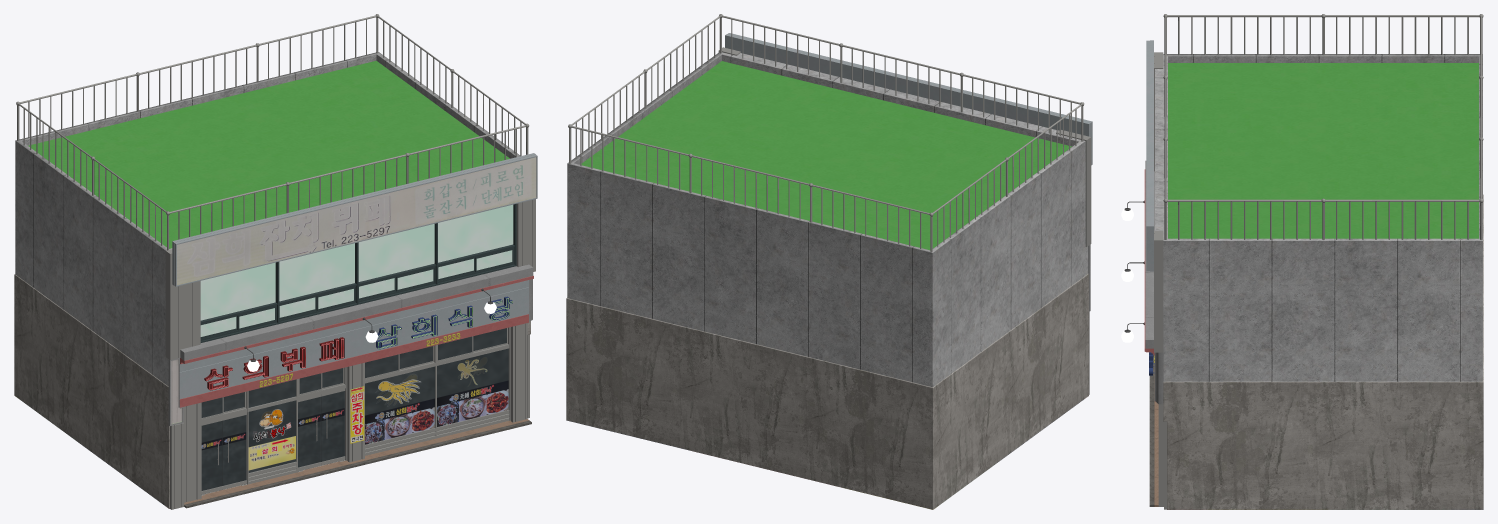
The model's file is samhui_restaurant.glb.
3 renders of one model, left to right at view 1: azimuth 30°, elevation 25°; view 2: azimuth 150°, elevation 25°; view 3: azimuth 270°, elevation 25°, orthographic. The views are drawn at different scales.
Visible parts, largest first — view 1: Trim_Wall_SamhuiRestaurant_TrimWall_0, Trim_Etc_SamhuiRestaurant_TrimEtc_0, 1F_Window_Trim_Etc_Glass, Trim_Floor_SamhuiRestaurant_TrimFloor_0, MainDoor_R, MainDoor_R002, MainDoor_L002, MainDoor_L; view 2: Trim_Wall_SamhuiRestaurant_TrimWall_0, Trim_Etc_SamhuiRestaurant_TrimEtc_0; view 3: Trim_Wall_SamhuiRestaurant_TrimWall_0, Trim_Etc_SamhuiRestaurant_TrimEtc_0, Trim_Floor_SamhuiRestaurant_TrimFloor_0.
Boxes of the visible parts, x1,y1,x2,y2 form: Trim_Wall_SamhuiRestaurant_TrimWall_0: (14,52,537,508); Trim_Etc_SamhuiRestaurant_TrimEtc_0: (16,14,536,509); 1F_Window_Trim_Etc_Glass: (201,328,508,472); Trim_Floor_SamhuiRestaurant_TrimFloor_0: (184,419,531,508); MainDoor_R: (222,415,246,485); MainDoor_R002: (321,391,344,461); MainDoor_L002: (298,397,320,467); MainDoor_L: (201,421,222,490); Trim_Wall_SamhuiRestaurant_TrimWall_0: (566,33,1092,509); Trim_Etc_SamhuiRestaurant_TrimEtc_0: (568,14,1091,394); Trim_Wall_SamhuiRestaurant_TrimWall_0: (1144,40,1483,509); Trim_Etc_SamhuiRestaurant_TrimEtc_0: (1121,14,1483,509); Trim_Floor_SamhuiRestaurant_TrimFloor_0: (1149,354,1158,506).
Size of the model in its own units: 11.64 by 8.94 by 9.48.
Materials: 4 (4 with a texture image).
